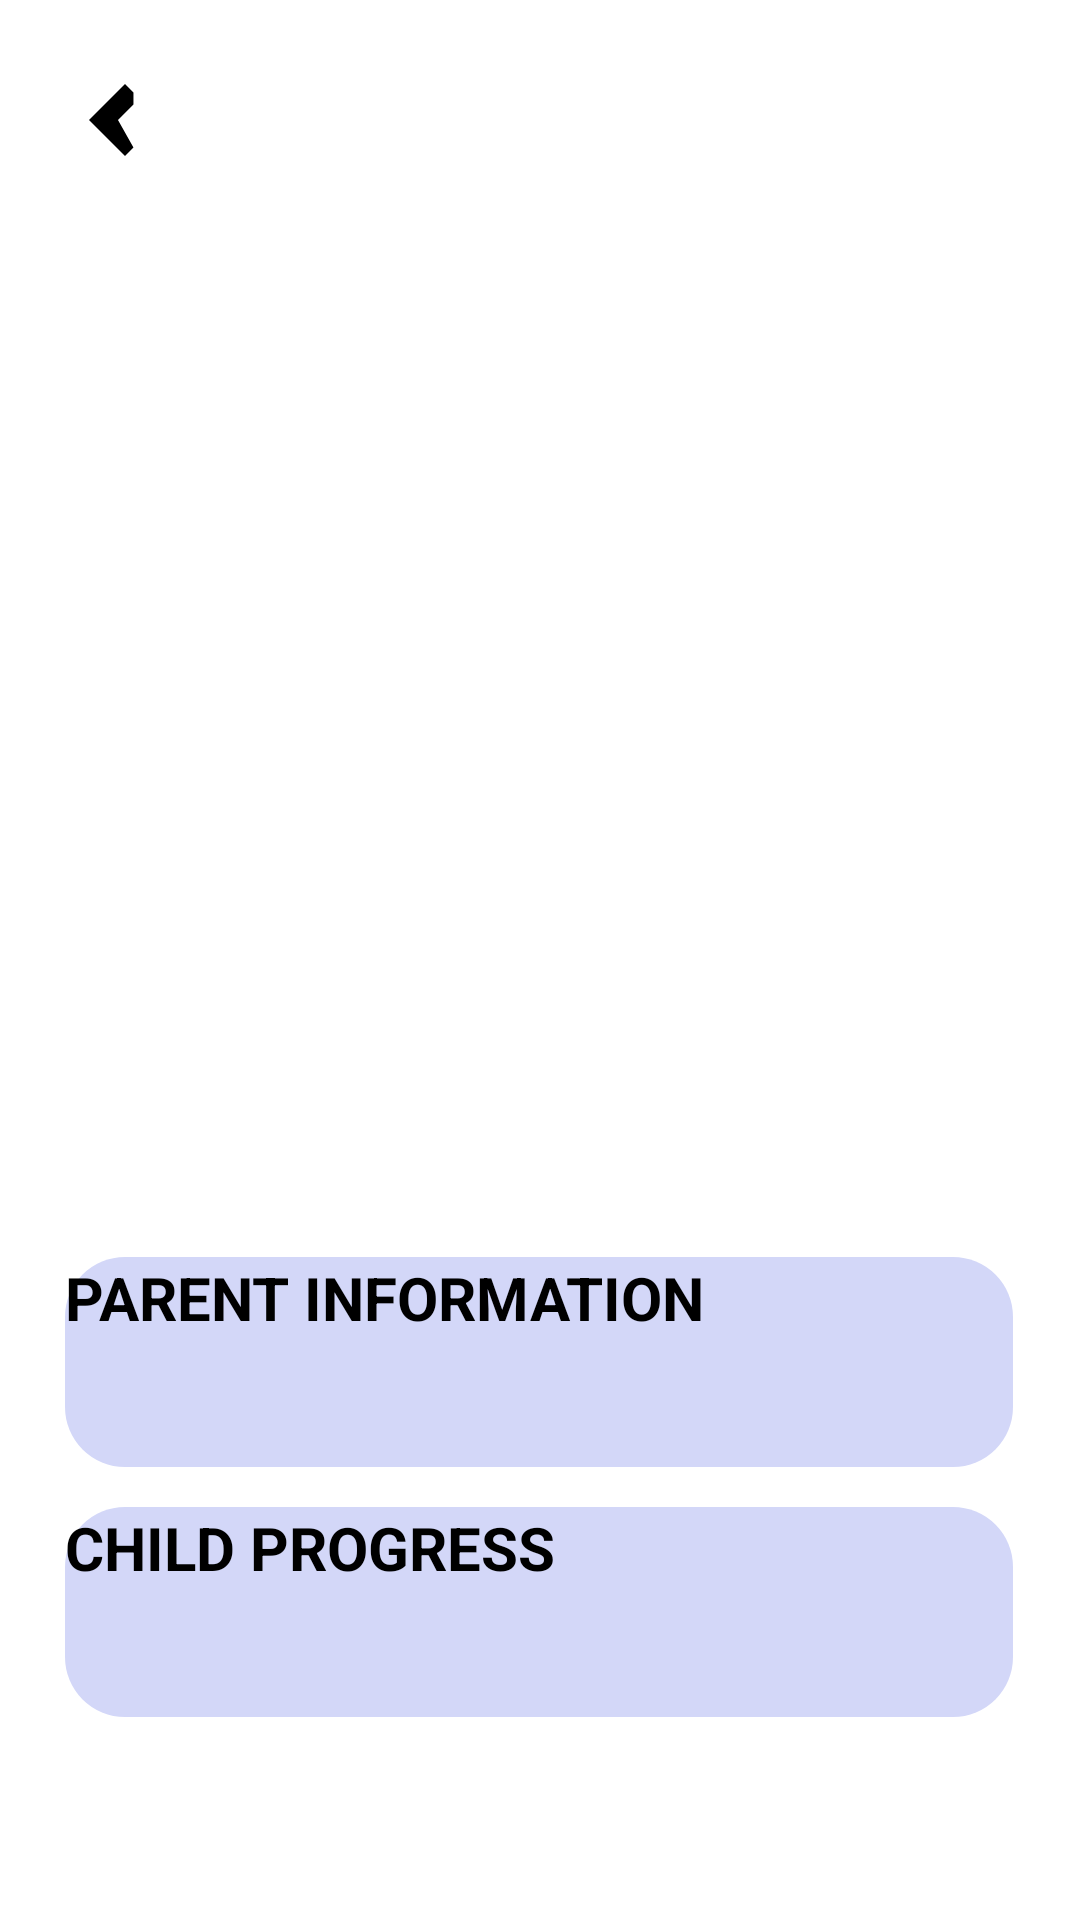

Screen size 1080*1920. Icon name, then its box in pixels as {"left": x1, "top": y1, "right": x2, "bottom": y2}:
back: {"left": 89, "top": 84, "right": 134, "bottom": 156}
